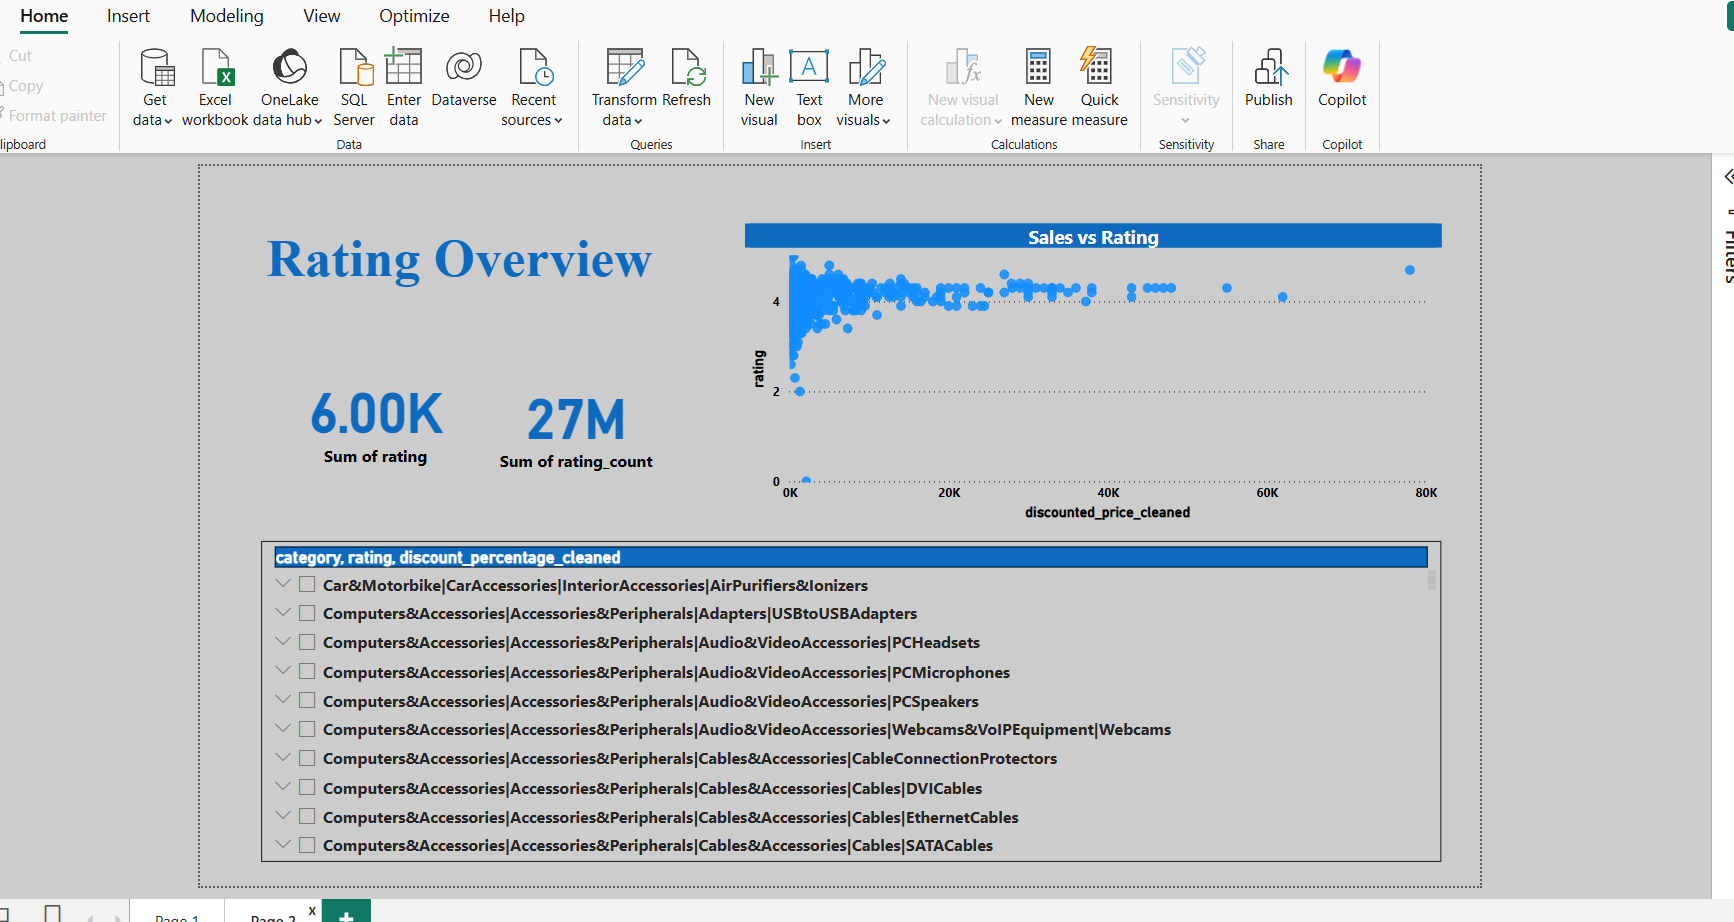

This screenshot's page, from the dashboard's own definition file:
{"tool":"powerbi","page":{"name":"Page 2","canvas":[1280,720],"ordinal":1},"visuals":[{"type":"card","fields":{"Values":["Sum(amazon_cleaned.rating)"]},"box":[61.7,153.7,229.2,195],"z":0},{"type":"card","fields":{"Values":["Sum(amazon_cleaned.rating_count)"]},"box":[277.2,153.7,197.6,205.8],"z":1000},{"type":"textbox","box":[61.7,57.6,456.9,96.1],"z":2000},{"type":"scatterChart","title":"Sales vs Rating","fields":{"Y":["amazon_cleaned.rating"],"X":["amazon_cleaned.discounted_price_cleaned"]},"box":[544.8,57.6,697.1,301.9],"z":3000},{"type":"slicer","fields":{"Values":["amazon_cleaned.category","amazon_cleaned.rating","amazon_cleaned.discount_percentage_cleaned"]},"box":[61.7,374.6,1180.1,321.1],"z":4000}]}

Visuals, with their boxes on the page's 1280x720 design canvas (x1, y1, x2, y2). These are canvas units, not pixel positions in the 1734x922 screenshot, which may show the page scaled, cropped or inside an application window:
card - Sum(amazon_cleaned.rating): [x1=62, y1=154, x2=291, y2=349]
card - Sum(amazon_cleaned.rating_count): [x1=277, y1=154, x2=475, y2=360]
textbox: [x1=62, y1=58, x2=519, y2=154]
"Sales vs Rating" scatterChart: [x1=545, y1=58, x2=1242, y2=360]
slicer - amazon_cleaned.category x amazon_cleaned.rating: [x1=62, y1=375, x2=1242, y2=696]
